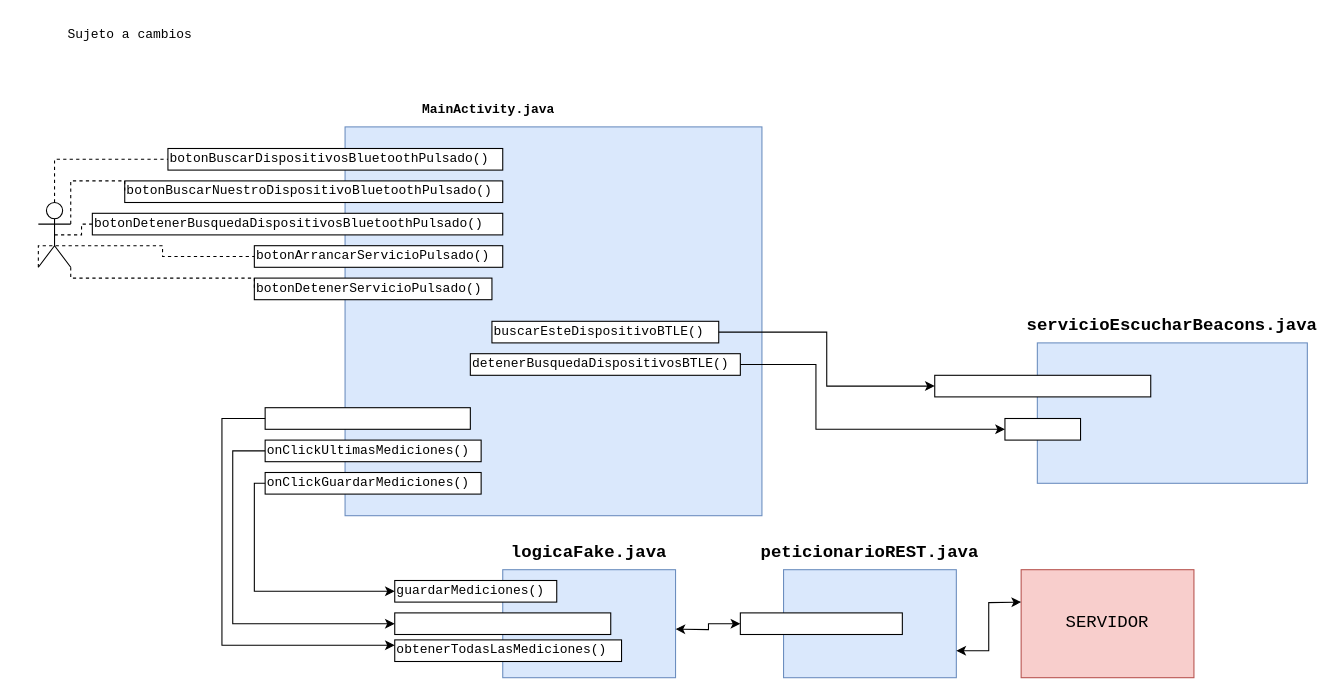
The diagram is 1336 pixels wide and 697 high, and some of its shapes have lost their labels. The shapes that lost their labels are listed below. From the top down, each one's centre as x and y in pixels, then its label:
At [54,234]: "Usuario".
At [1042,385]: "servicioEscucharBeacons()".
At [367,418]: "onClickTodasMediciones()".
At [1042,428]: "parar()".
At [502,623]: "obtenerUltimasMediciones()".
At [820,623]: "hacerPeticionREST()".
